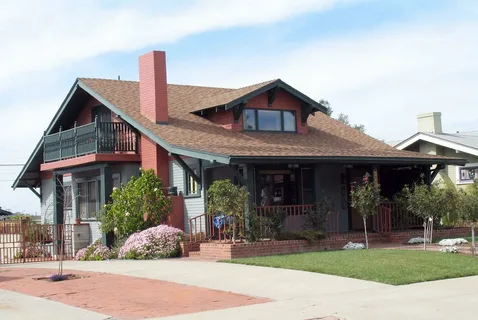private_hause: (50, 83, 428, 247)
